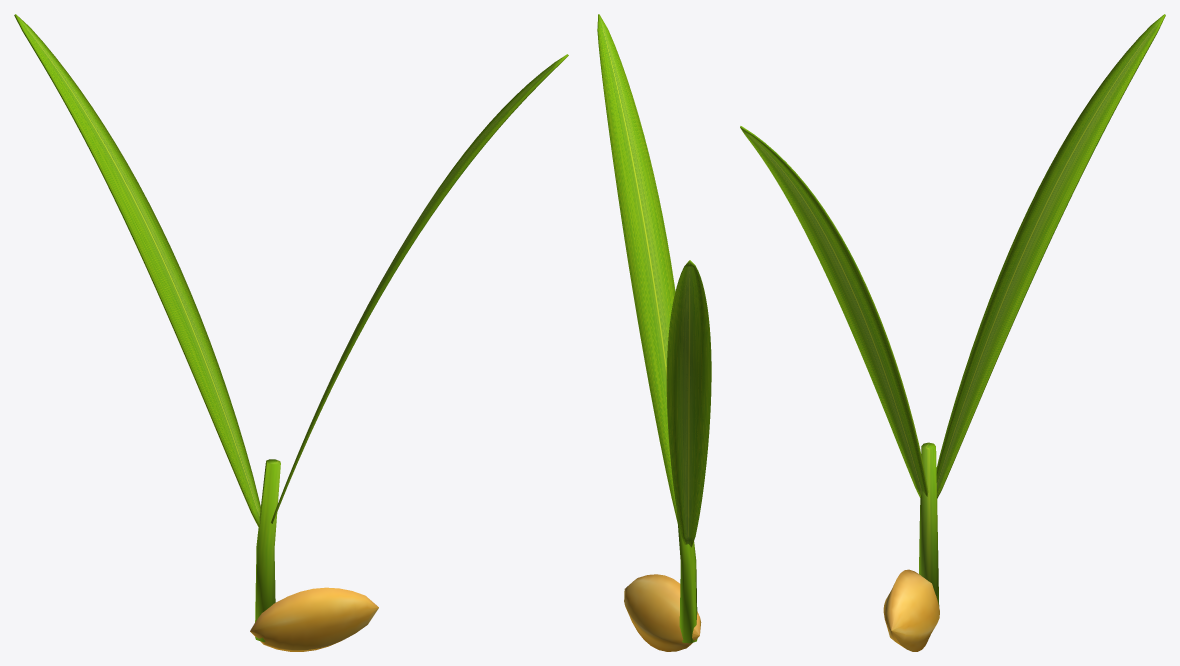
The model's file is NP_Wheat_Sprout.fbx.
The picture shows the model from 3 angles, left to right: view 1: azimuth 30°, elevation 25°; view 2: azimuth 150°, elevation 25°; view 3: azimuth 270°, elevation 25°; orthographic projection. The views are drawn at different scales.
Parts seen in each view (by area): view 1: NP_Wheat_Sprout; view 2: NP_Wheat_Sprout; view 3: NP_Wheat_Sprout.
Part boxes in pixels (<box>): NP_Wheat_Sprout: <box>14,14,568,651</box>; NP_Wheat_Sprout: <box>597,14,711,651</box>; NP_Wheat_Sprout: <box>740,14,1165,651</box>.
Size of the model in its own units: 20.77 by 37.67 by 24.37.
